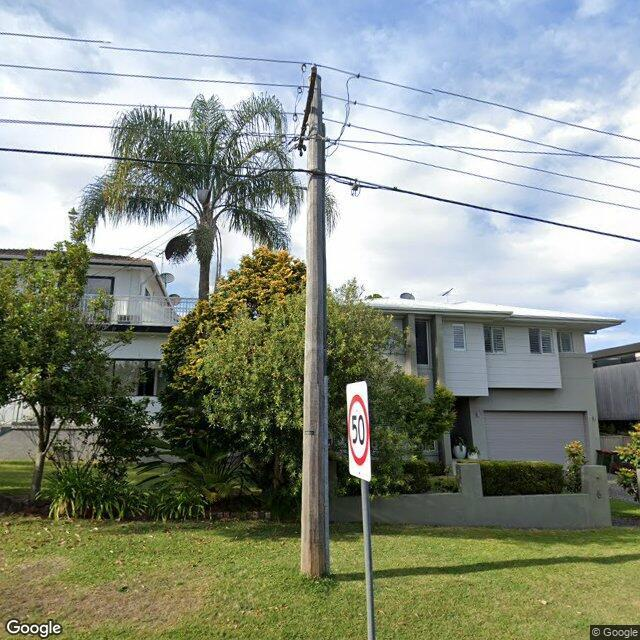crossarm: (296, 66, 318, 150)
timber-pole: (299, 73, 328, 577)
